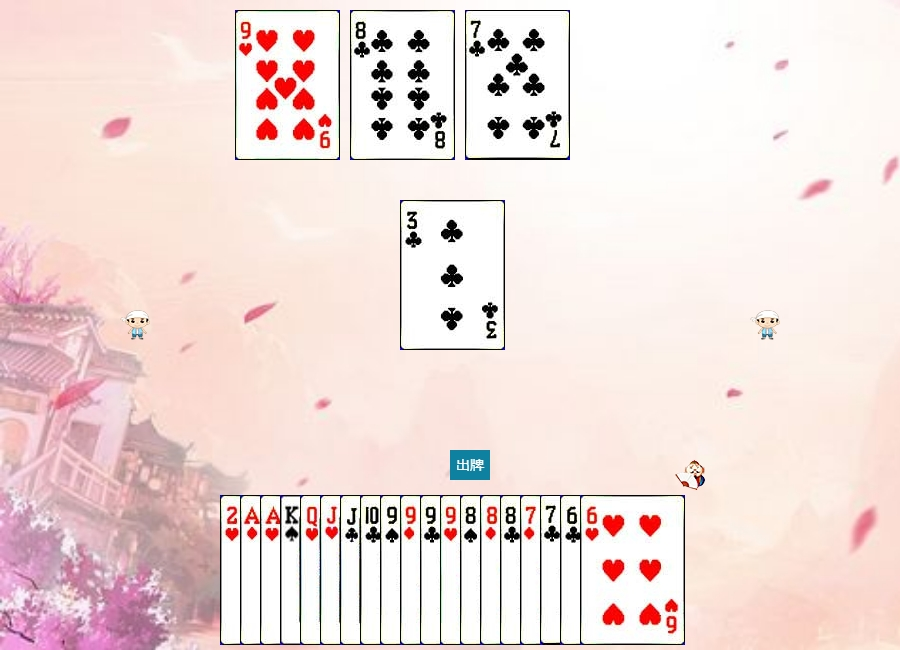10~2: (360, 495, 465, 645)
11~2: (340, 495, 445, 645)
11~3: (320, 495, 425, 645)
12~3: (300, 495, 405, 645)
13~4: (280, 495, 385, 645)
14~1: (240, 495, 345, 645)
14~3: (260, 495, 365, 645)
15~3: (220, 495, 325, 645)
3~2: (400, 200, 505, 350)
6~2: (560, 495, 665, 645)
6~3: (580, 495, 685, 645)
7~1: (520, 495, 625, 645)
7~2: (465, 10, 570, 160), (540, 495, 645, 645)
8~1: (480, 495, 585, 645)
8~2: (350, 10, 455, 160), (500, 495, 605, 645)
8~4: (460, 495, 565, 645)
9~1: (400, 495, 505, 645)
9~2: (420, 495, 525, 645)
9~3: (235, 10, 340, 160), (440, 495, 545, 645)
9~4: (380, 495, 485, 645)
